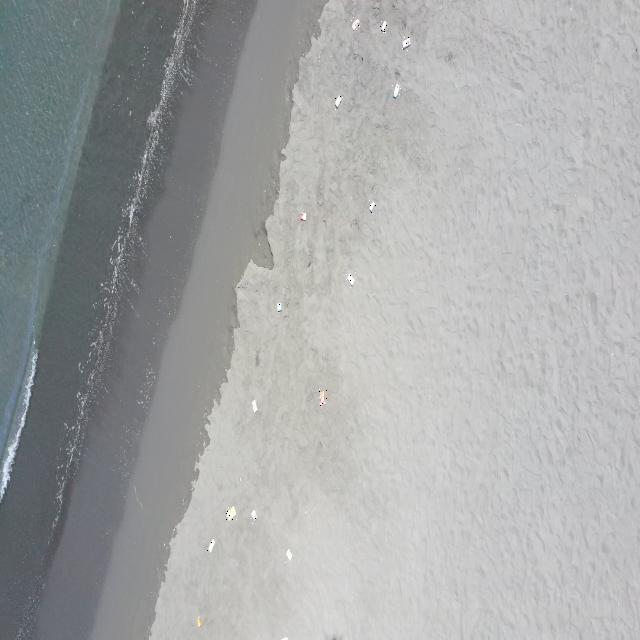Garbage: (226, 507, 236, 520), (319, 388, 326, 404), (351, 18, 360, 30), (333, 96, 342, 108), (402, 36, 409, 48), (380, 20, 387, 32), (392, 84, 399, 96), (368, 200, 375, 212), (207, 537, 212, 552), (346, 272, 352, 284), (298, 212, 306, 220), (249, 510, 256, 519), (196, 615, 201, 627), (252, 399, 256, 412), (276, 301, 281, 311), (287, 548, 291, 560), (281, 636, 287, 639)
